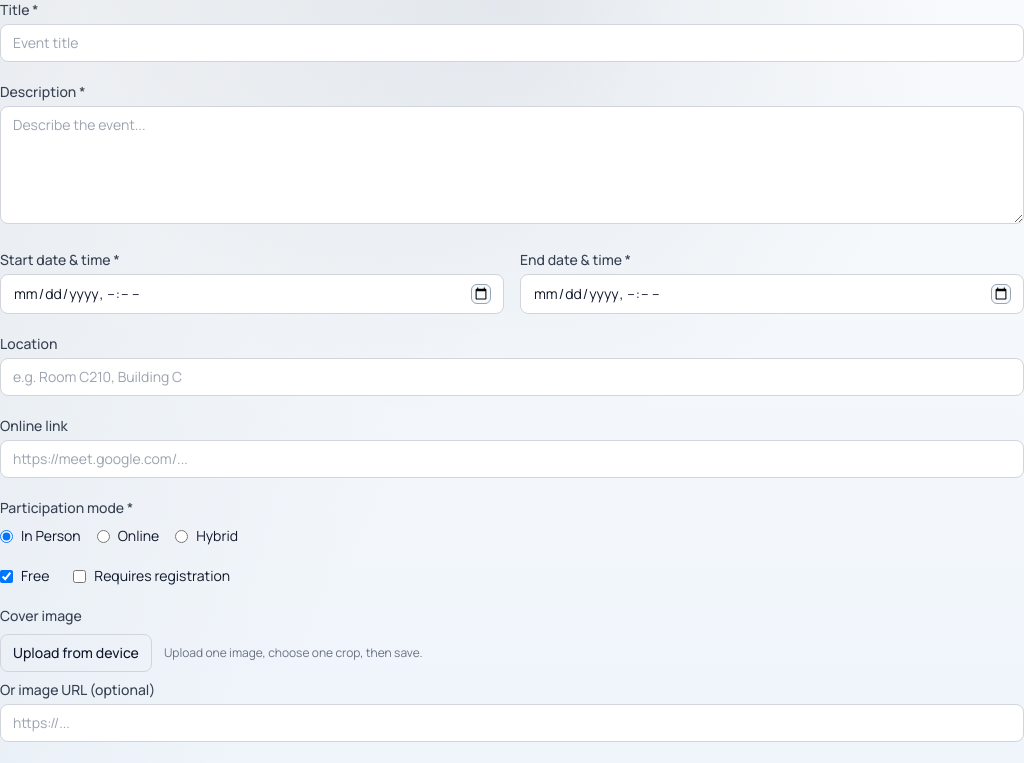
Test: EventForm create flow › shows registration fields only when required registration is enabled
expect the field labelled "registration link" is not shown: met
expect the field labelled "max participants" is not shown: met
What coordinates should you click on to do the following:
click the checkbox labelled "Requires registration"
I would click on:
 (80, 576)
Its box is [73,570,86,582].
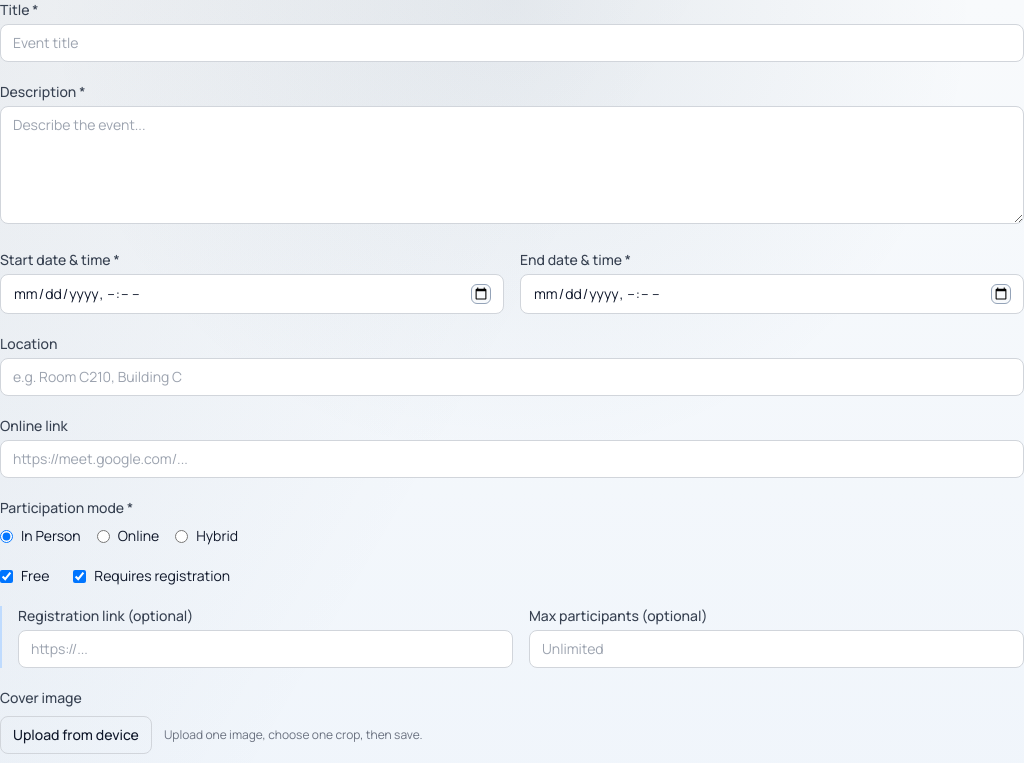
expect the text "Registration link (optional)" is shown: met, box [18,606,193,625]
expect the text "Max participants (optional)" is shown: met, box [529,606,708,625]
